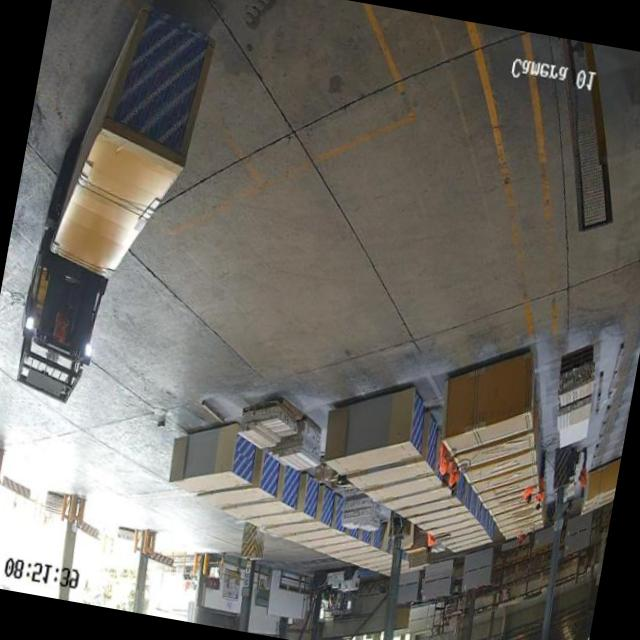forklift: (5, 250, 110, 407)
person: (435, 446, 458, 491), (576, 449, 591, 496), (533, 473, 548, 509)
